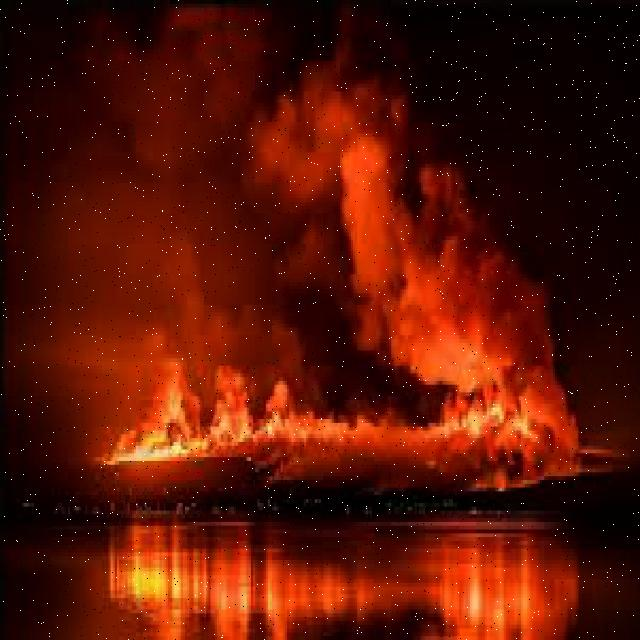fire: (112, 342, 584, 499)
smoke: (154, 20, 564, 336)
